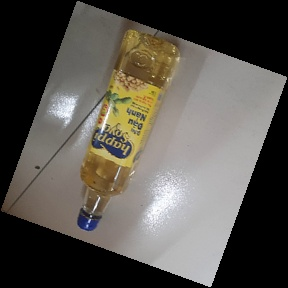Happy Soya: (75, 29, 180, 234)
